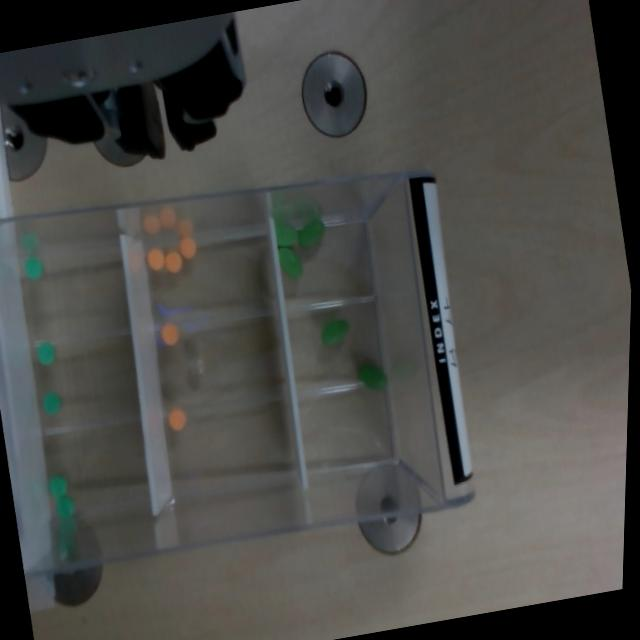famodine: (45, 474, 68, 502), (33, 340, 56, 367), (39, 390, 61, 418), (22, 257, 42, 281)
otillen_tab: (275, 243, 304, 281), (355, 362, 388, 394), (296, 219, 328, 252), (271, 220, 300, 248), (318, 319, 349, 345)
samsung_octylonium_tab: (160, 250, 183, 274), (174, 233, 195, 259), (165, 407, 187, 430), (158, 322, 178, 346), (144, 248, 163, 272)
